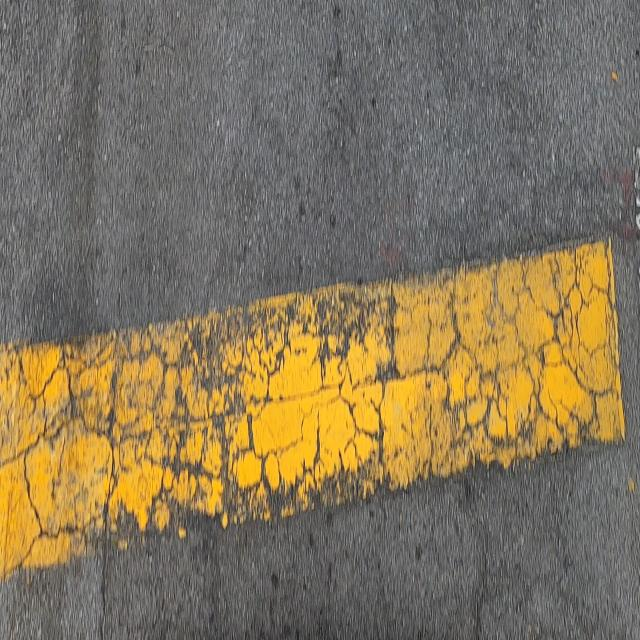Retak-Buaya: (3, 247, 626, 577)
